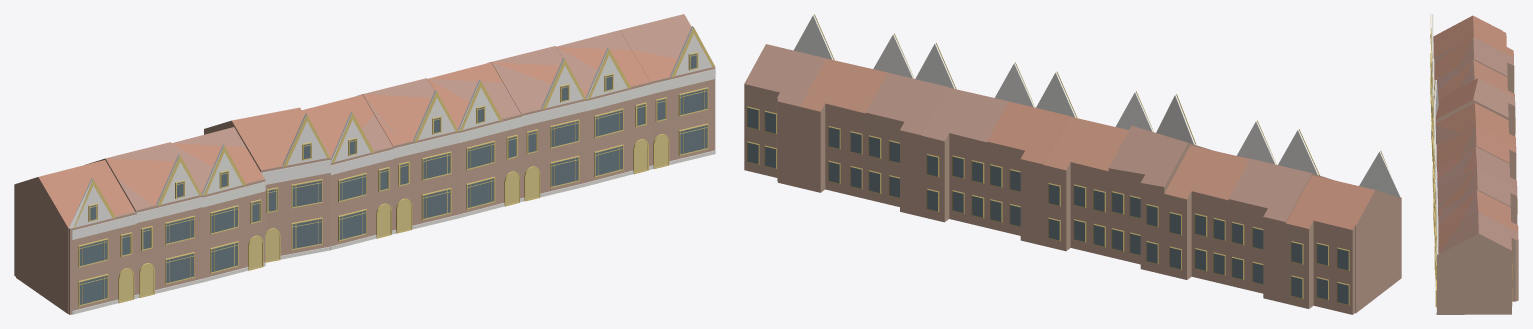
File: chunk-face-zaanhof-1-20.glb
3 renders of one model, left to right at view 1: azimuth 30°, elevation 25°; view 2: azimuth 150°, elevation 25°; view 3: azimuth 270°, elevation 25°, orthographic. The views are drawn at different scales.
Visible parts, largest first — view 1: face-zaanhof-1-20; view 2: face-zaanhof-1-20; view 3: face-zaanhof-1-20.
Part boxes in pixels (x1,y1,x2,y2): face-zaanhof-1-20: (14, 14, 715, 314); face-zaanhof-1-20: (744, 14, 1401, 314); face-zaanhof-1-20: (1430, 14, 1518, 314).
Size of the model in its own units: 59.72 by 12.31 by 10.13.
